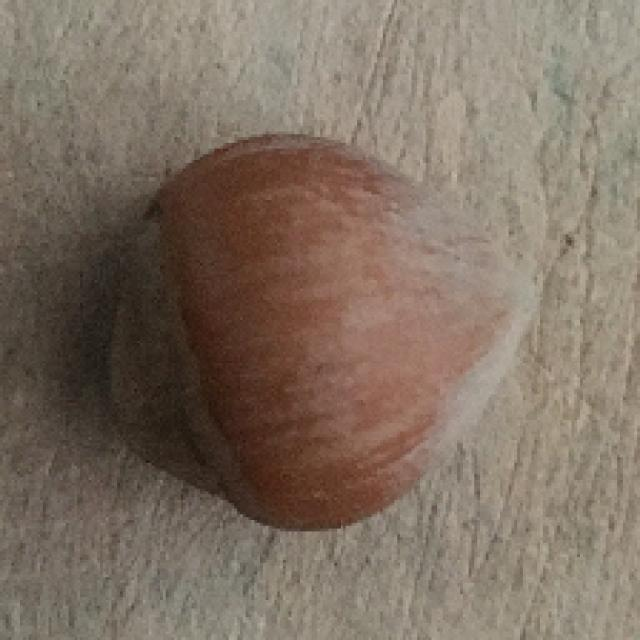qualityHazelnut: (92, 132, 548, 534)
